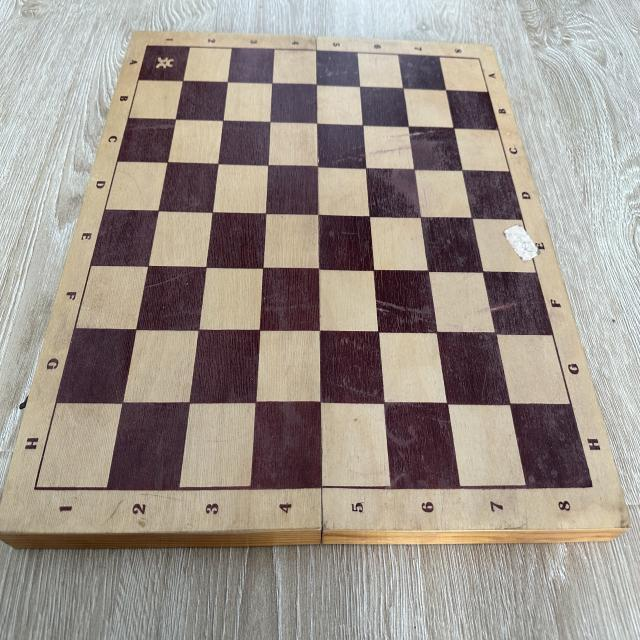chess-table-corners: (582, 468, 602, 504), (24, 474, 48, 502), (471, 51, 486, 68), (142, 37, 153, 55)
